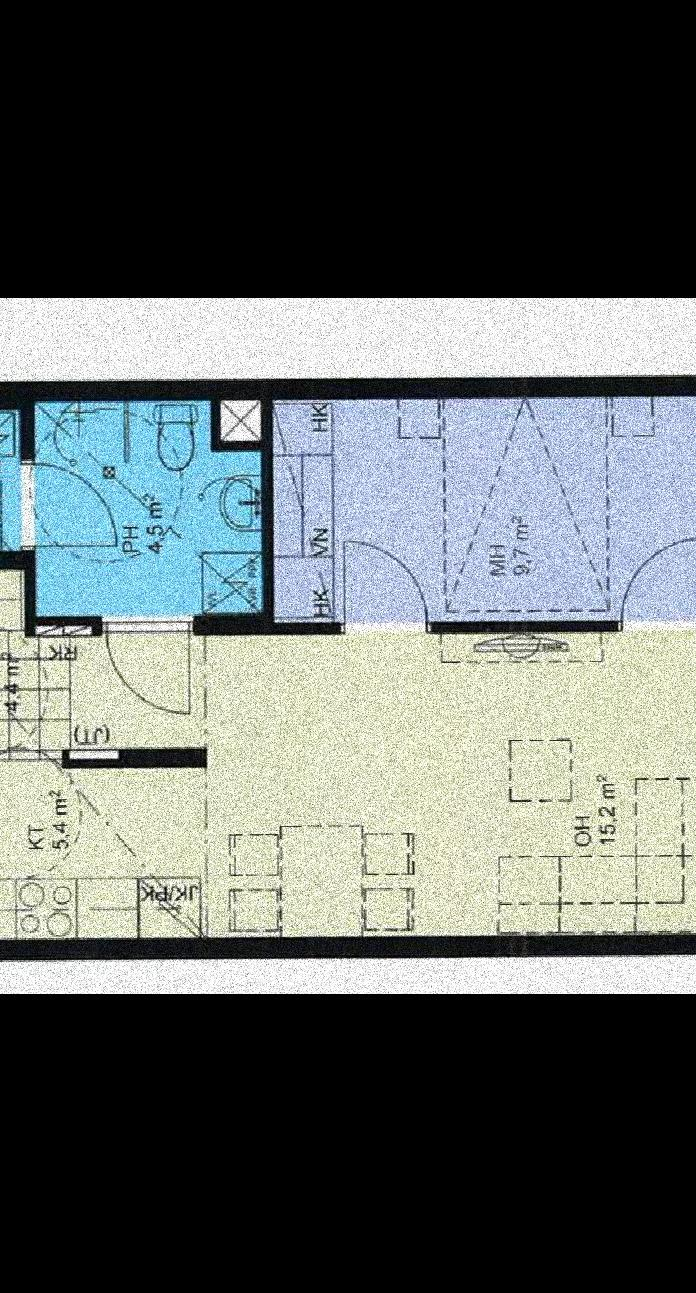door: (14, 452, 114, 560), (337, 522, 424, 646), (608, 534, 696, 638), (94, 626, 188, 718)
zone: (0, 633, 696, 926), (270, 391, 696, 622), (31, 402, 264, 620)
